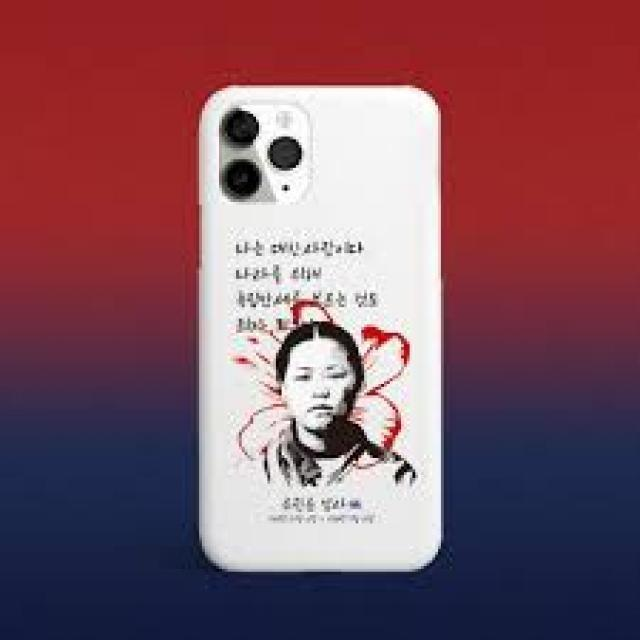lens: (219, 102, 315, 207)
phone: (189, 73, 446, 580)
